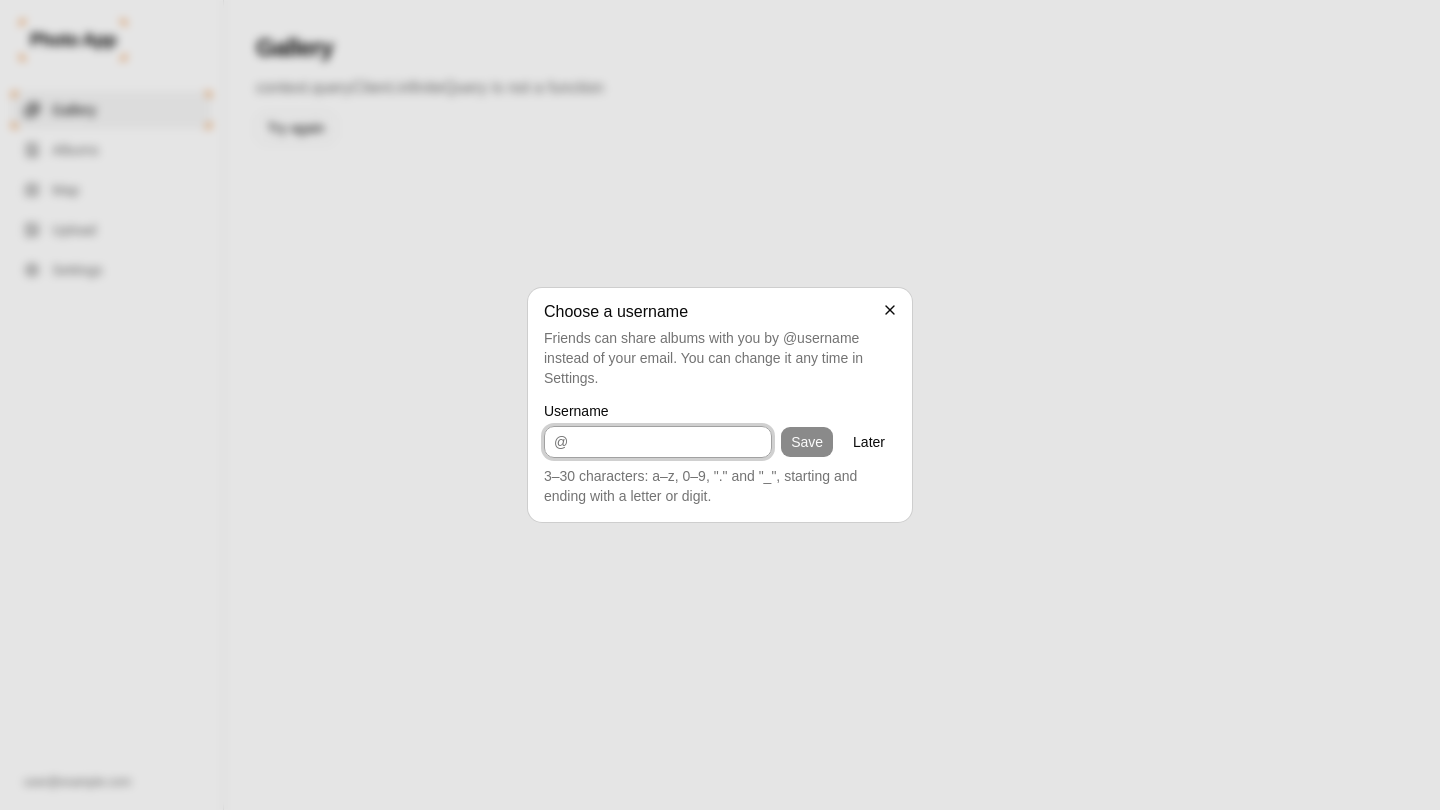
it: first-login username prompt (FR-ACC-3, 8.15) › keeps the dialog open when the name is taken
This screenshot has width=1440, height=810.
Type "ben" into the field labelled "Username" at [658, 442], box x1=544 y1=426 x2=772 y2=458
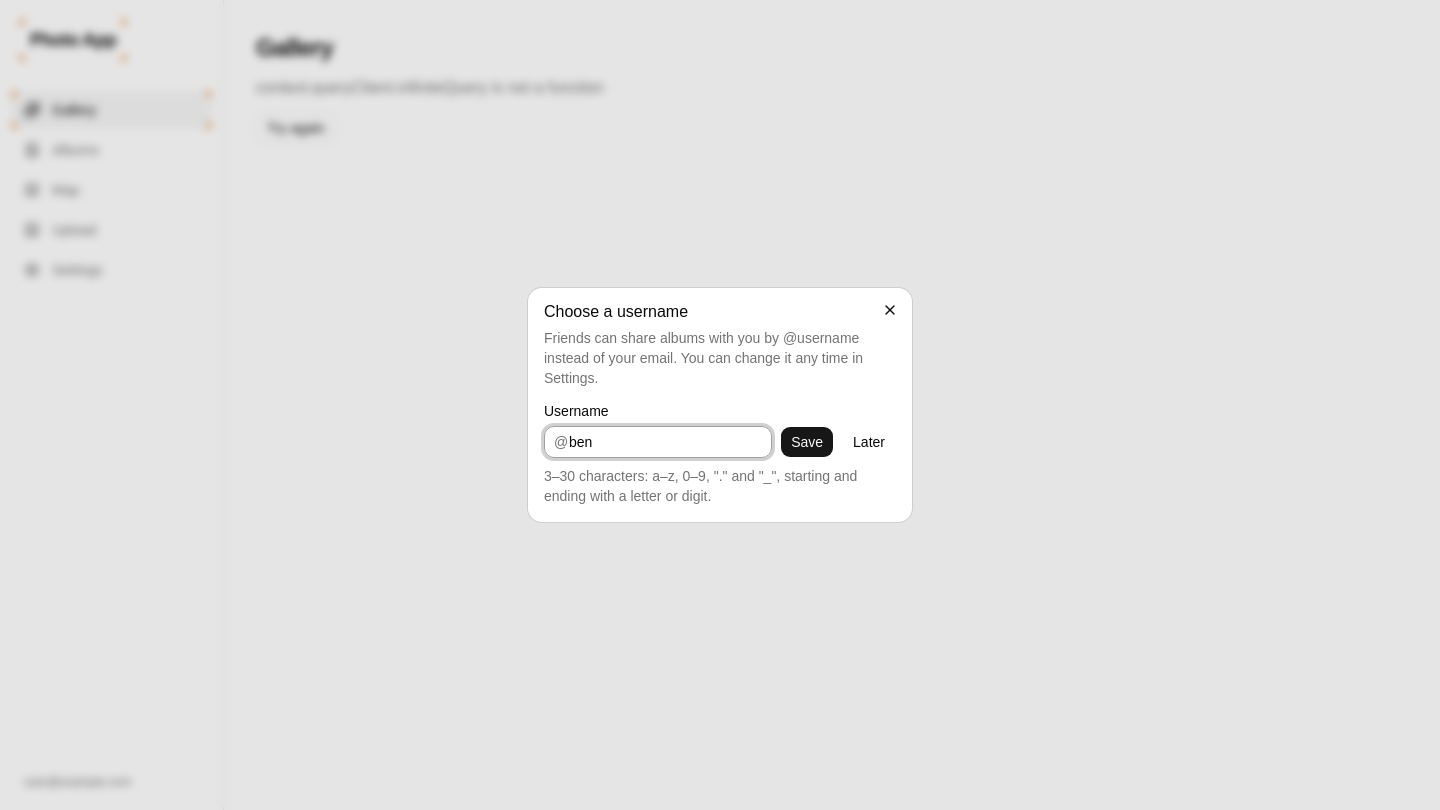
Click the button "Save" at [807, 442], box x1=780 y1=426 x2=834 y2=458
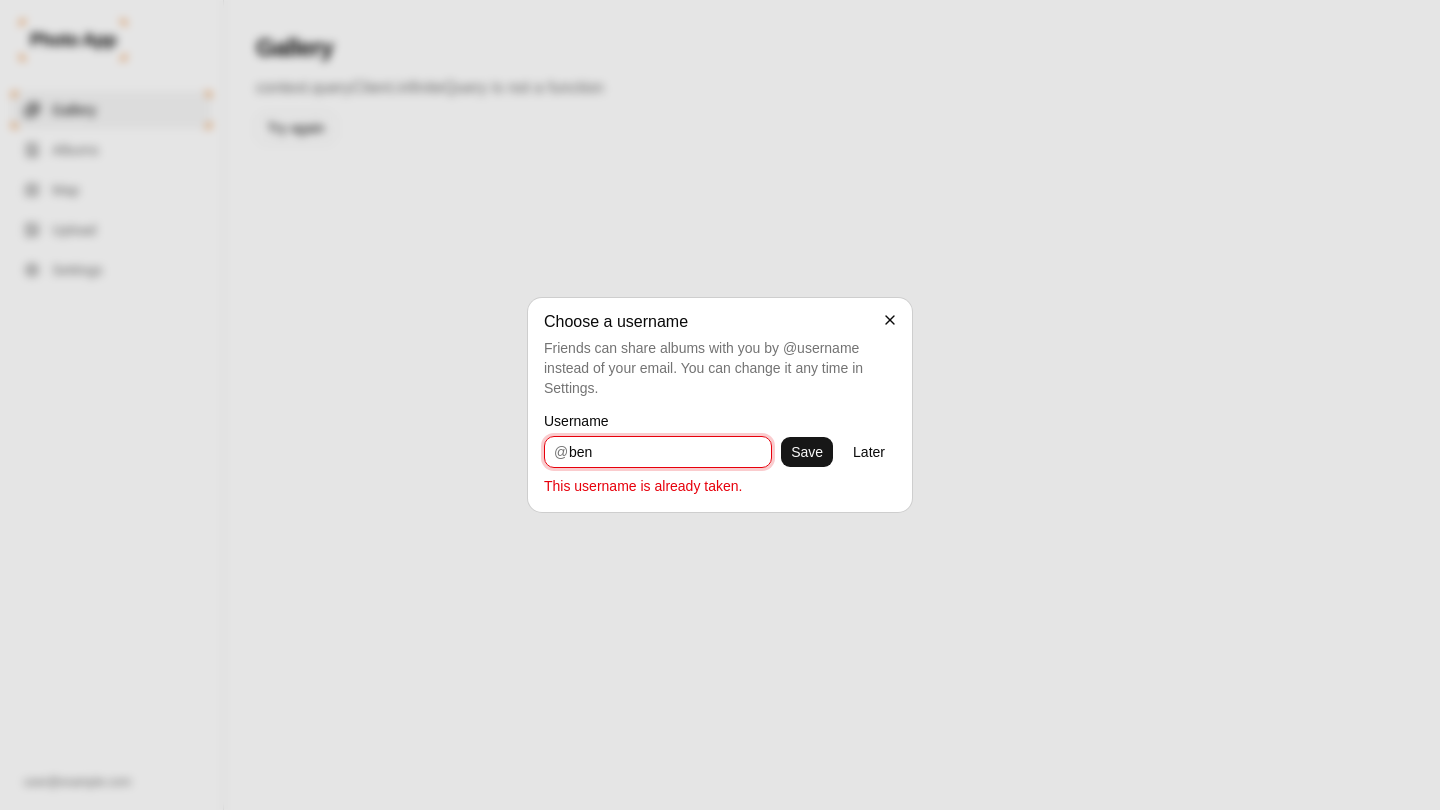
Expected: the dialog "Choose a username" is shown, x1=528 y1=298 x2=912 y2=512
Now the message reads "This username is already taken.", box x1=544 y1=478 x2=742 y2=494
